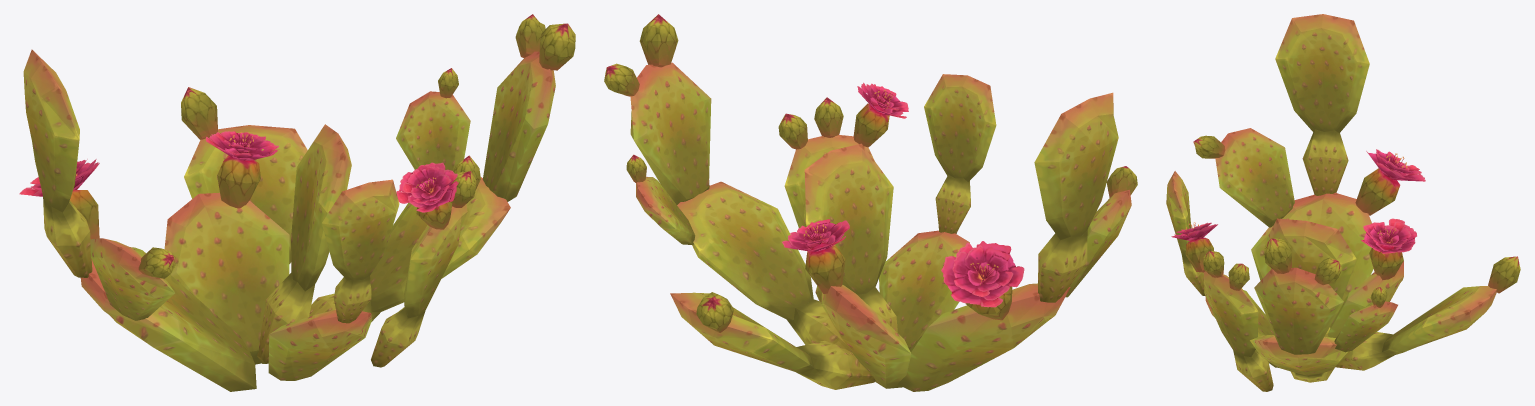
File: plant-8.glb
3 views of the same model, side by side, from view 1: azimuth 30°, elevation 25°; view 2: azimuth 150°, elevation 25°; view 3: azimuth 270°, elevation 25° (orthographic). The views are drawn at different scales.
Visible parts, largest first — view 1: beavertail.bud.001_Material.002_0; view 2: beavertail.bud.001_Material.002_0; view 3: beavertail.bud.001_Material.002_0.
Boxes of the visible parts, bbox=[...] form: beavertail.bud.001_Material.002_0: bbox=[19, 14, 575, 391]; beavertail.bud.001_Material.002_0: bbox=[604, 14, 1137, 391]; beavertail.bud.001_Material.002_0: bbox=[1166, 14, 1520, 391].
Bounding box in the file's own units: 0.7596 × 0.5 × 0.5897.
Materials: 1 (1 with a texture image).
